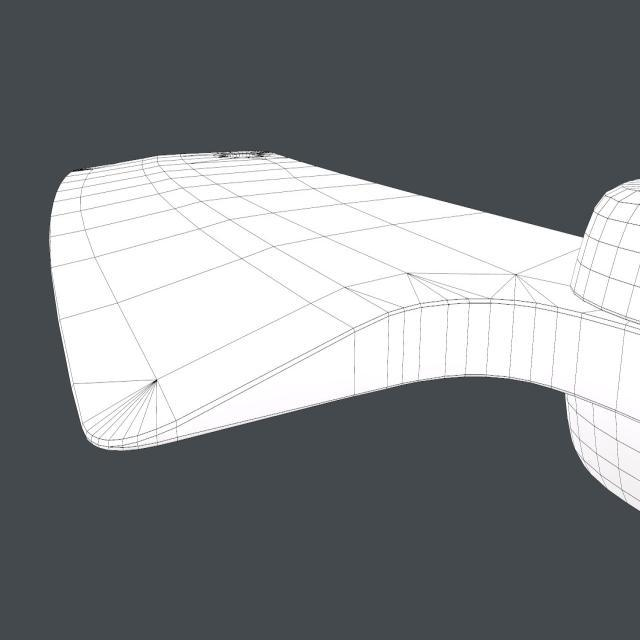cleaver: (51, 152, 640, 509)
